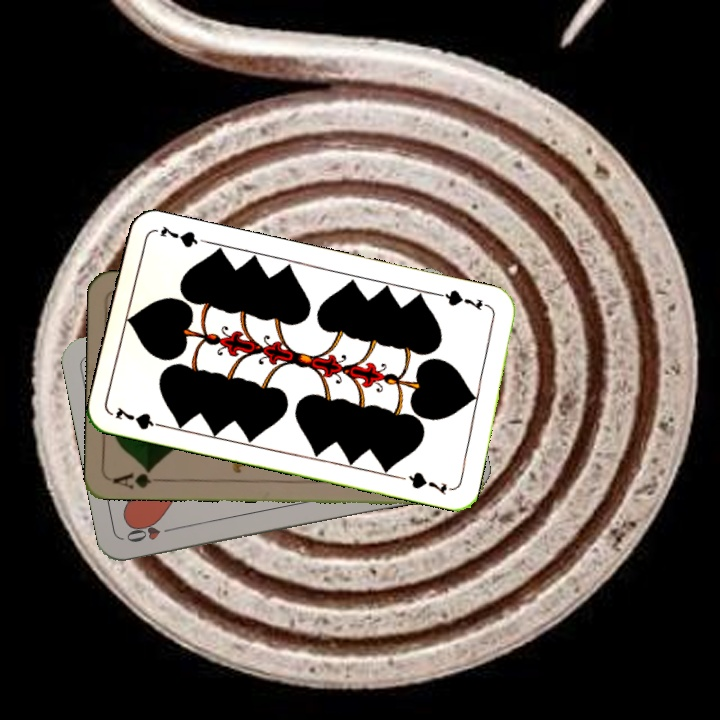G7: (111, 403, 169, 433), (435, 286, 493, 313)
GA: (109, 464, 168, 491)
HO: (122, 519, 180, 545)
